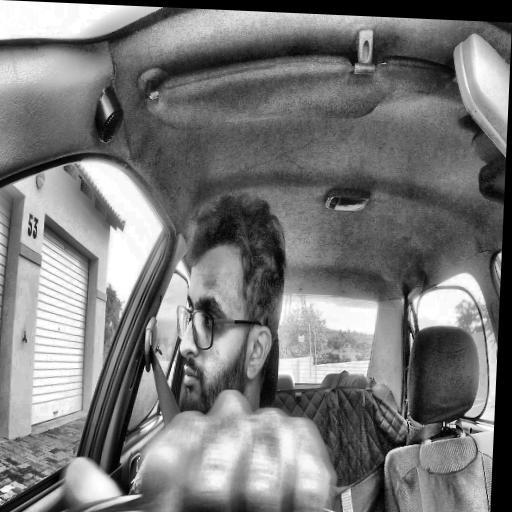awake: (170, 194, 290, 427)
